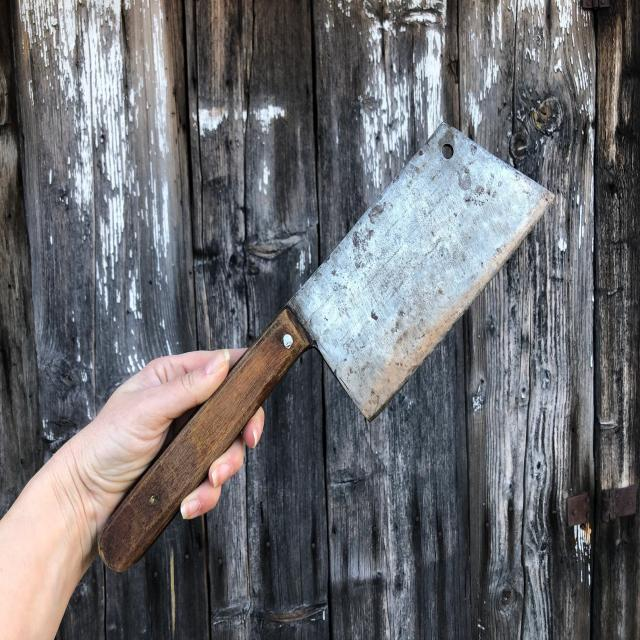cleaver: (73, 123, 556, 572)
